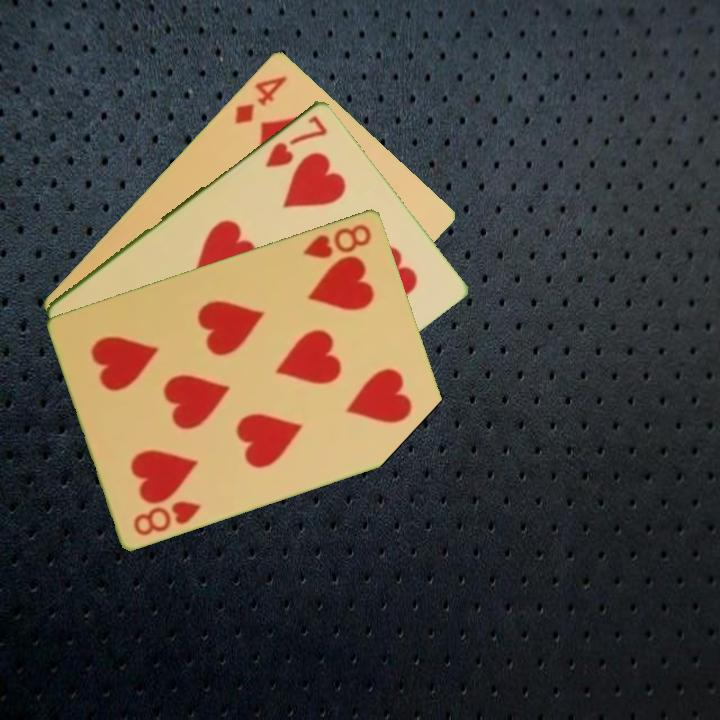4d: (230, 71, 290, 127)
7h: (262, 111, 331, 170)
8h: (130, 496, 204, 539), (299, 220, 375, 261)
